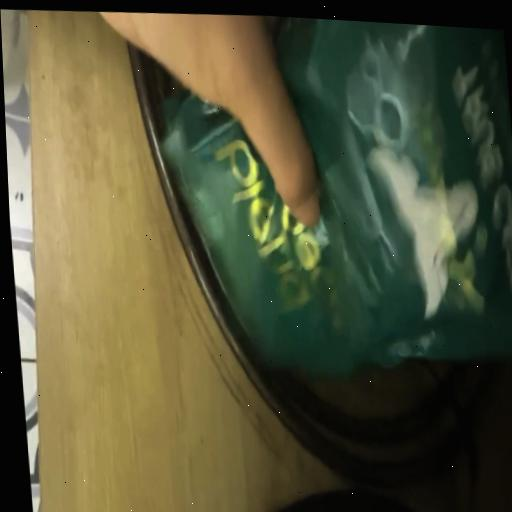cafe_xay: (161, 17, 512, 465)
